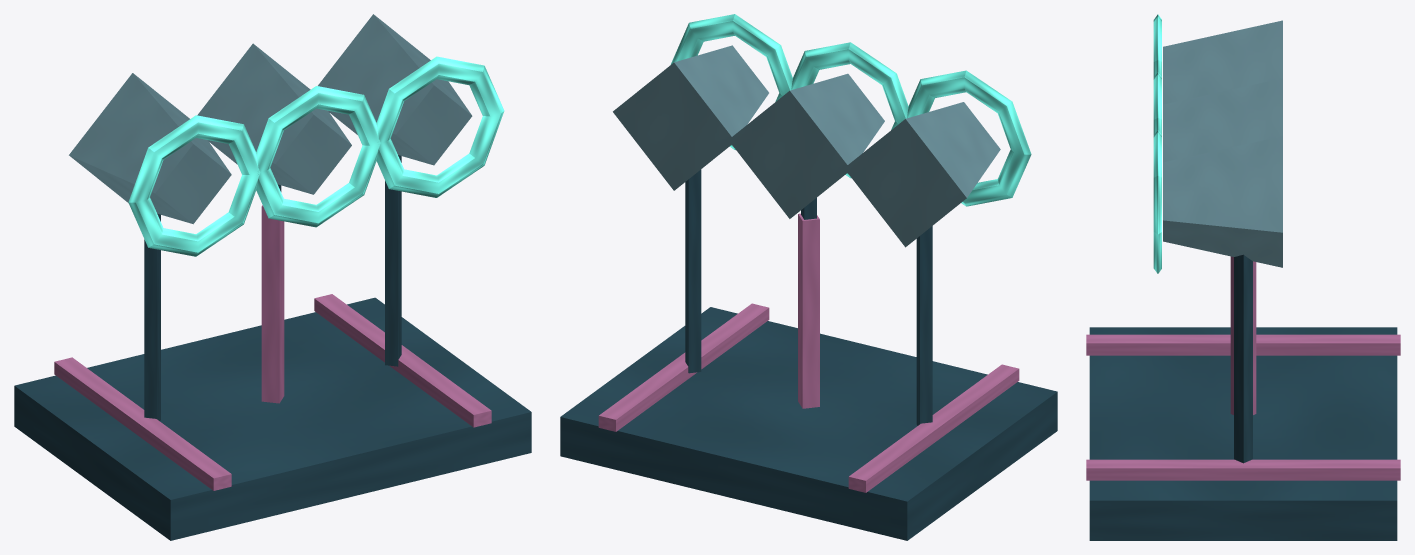
Rendered from atlas100-s066-a01.lod2.glb.
3 renders of one model, left to right at view 1: azimuth 30°, elevation 25°; view 2: azimuth 150°, elevation 25°; view 3: azimuth 270°, elevation 25°, orthographic. The views are drawn at different scales.
Parts seen in each view (by area): view 1: atlas100-s066-a01:part-000, atlas100-s066-a01:part-006, atlas100-s066-a01:part-014, atlas100-s066-a01:part-010, atlas100-s066-a01:part-008, atlas100-s066-a01:part-016, atlas100-s066-a01:part-012, atlas100-s066-a01:part-001, atlas100-s066-a01:part-002, atlas100-s066-a01:part-003, atlas100-s066-a01:part-013, atlas100-s066-a01:part-005; view 2: atlas100-s066-a01:part-000, atlas100-s066-a01:part-006, atlas100-s066-a01:part-014, atlas100-s066-a01:part-010, atlas100-s066-a01:part-008, atlas100-s066-a01:part-001, atlas100-s066-a01:part-002, atlas100-s066-a01:part-003, atlas100-s066-a01:part-013, atlas100-s066-a01:part-005, atlas100-s066-a01:part-016, atlas100-s066-a01:part-012; view 3: atlas100-s066-a01:part-000, atlas100-s066-a01:part-014, atlas100-s066-a01:part-006, atlas100-s066-a01:part-010, atlas100-s066-a01:part-002, atlas100-s066-a01:part-001, atlas100-s066-a01:part-013, atlas100-s066-a01:part-016, atlas100-s066-a01:part-003, atlas100-s066-a01:part-008, atlas100-s066-a01:part-012.
Boxes of the visible parts, bbox=[...] form: atlas100-s066-a01:part-000: bbox=[14, 297, 531, 540]; atlas100-s066-a01:part-006: bbox=[69, 73, 231, 224]; atlas100-s066-a01:part-014: bbox=[318, 14, 472, 165]; atlas100-s066-a01:part-010: bbox=[197, 43, 351, 194]; atlas100-s066-a01:part-008: bbox=[128, 115, 260, 256]; atlas100-s066-a01:part-016: bbox=[376, 56, 504, 197]; atlas100-s066-a01:part-012: bbox=[256, 86, 380, 227]; atlas100-s066-a01:part-001: bbox=[54, 357, 231, 490]; atlas100-s066-a01:part-002: bbox=[314, 294, 491, 427]; atlas100-s066-a01:part-003: bbox=[261, 205, 284, 403]; atlas100-s066-a01:part-013: bbox=[385, 155, 401, 366]; atlas100-s066-a01:part-005: bbox=[144, 214, 160, 421]; atlas100-s066-a01:part-000: bbox=[560, 307, 1057, 540]; atlas100-s066-a01:part-006: bbox=[844, 102, 1000, 247]; atlas100-s066-a01:part-014: bbox=[613, 45, 768, 190]; atlas100-s066-a01:part-010: bbox=[730, 73, 884, 218]; atlas100-s066-a01:part-008: bbox=[907, 70, 1031, 206]; atlas100-s066-a01:part-001: bbox=[848, 364, 1019, 492]; atlas100-s066-a01:part-002: bbox=[598, 303, 769, 431]; atlas100-s066-a01:part-003: bbox=[798, 213, 819, 408]; atlas100-s066-a01:part-013: bbox=[685, 169, 701, 373]; atlas100-s066-a01:part-005: bbox=[916, 226, 932, 425]; atlas100-s066-a01:part-016: bbox=[670, 14, 792, 149]; atlas100-s066-a01:part-012: bbox=[791, 42, 908, 178]; atlas100-s066-a01:part-000: bbox=[1089, 327, 1397, 540]; atlas100-s066-a01:part-014: bbox=[1163, 136, 1282, 267]; atlas100-s066-a01:part-006: bbox=[1163, 20, 1282, 104]; atlas100-s066-a01:part-010: bbox=[1163, 78, 1282, 162]; atlas100-s066-a01:part-002: bbox=[1086, 459, 1400, 480]; atlas100-s066-a01:part-001: bbox=[1086, 334, 1400, 355]; atlas100-s066-a01:part-013: bbox=[1234, 254, 1252, 463]; atlas100-s066-a01:part-016: bbox=[1153, 130, 1161, 273]; atlas100-s066-a01:part-003: bbox=[1230, 256, 1256, 414]; atlas100-s066-a01:part-008: bbox=[1153, 14, 1161, 77]; atlas100-s066-a01:part-012: bbox=[1153, 72, 1161, 134].
Size of the model in its own units: 2.5 by 2.45 by 1.84.
4 materials, 4 textured.
